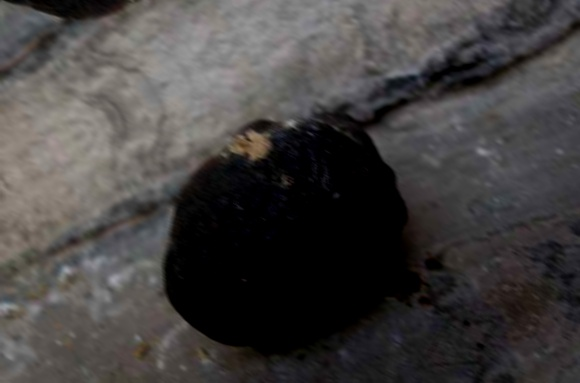halobolite: (103, 69, 442, 383)
